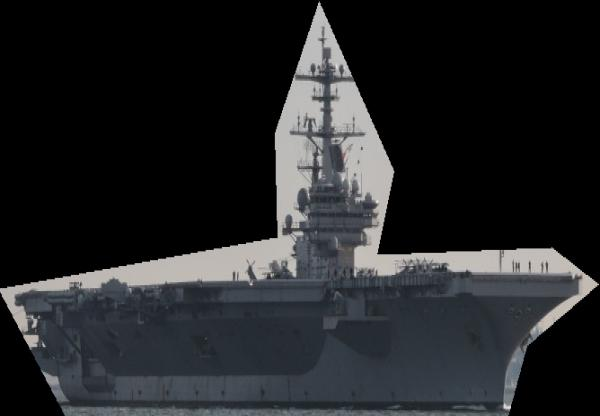Aircraft Carrier: (0, 1, 599, 416)
